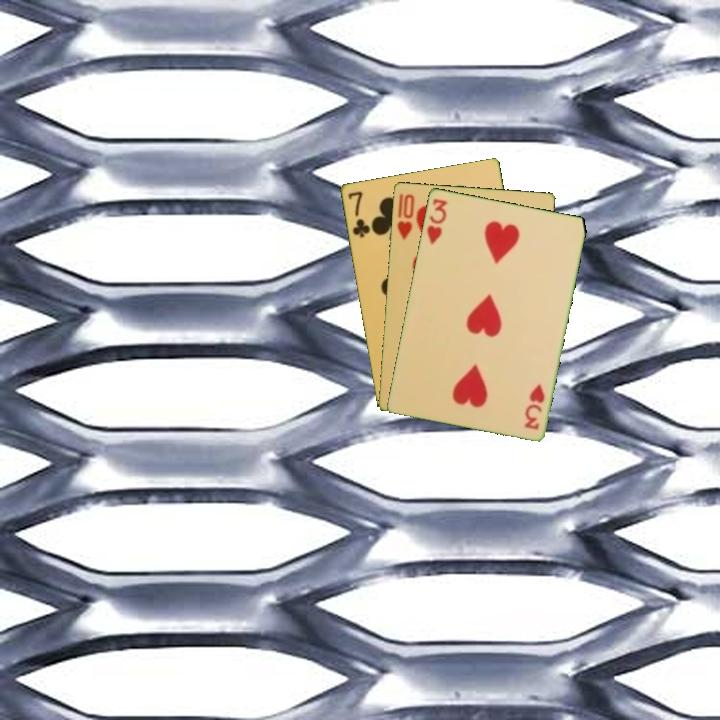10h: (393, 190, 417, 242)
3h: (423, 195, 450, 247), (521, 380, 547, 432)
7c: (344, 187, 373, 240)
